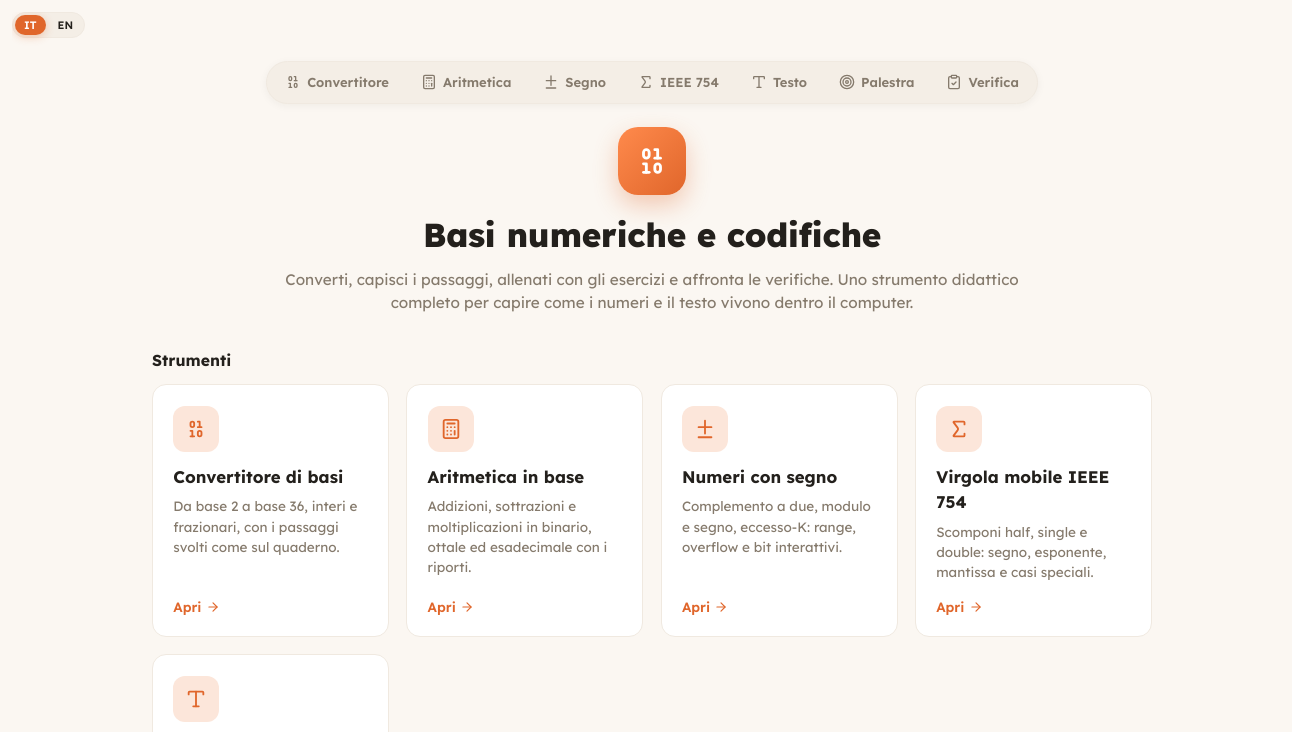
Test case: cambio lingua › passa a inglese e ritorna in italiano
The image size is (1292, 732).
Click the button "EN": x=65, y=25 [48,15,82,35]
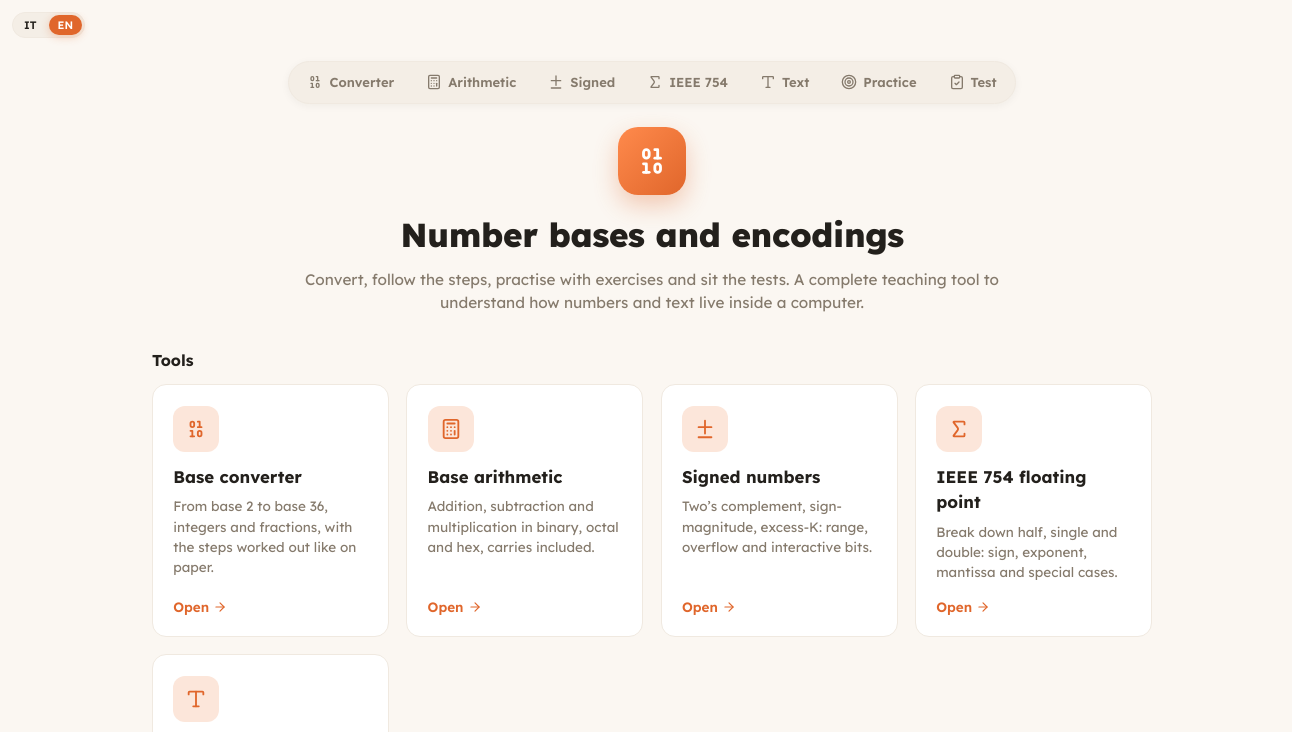
Check: the heading "Number bases and encodings" is shown, box [400,214,904,254]
Click the button "IT": x=30, y=25 [15,15,46,35]
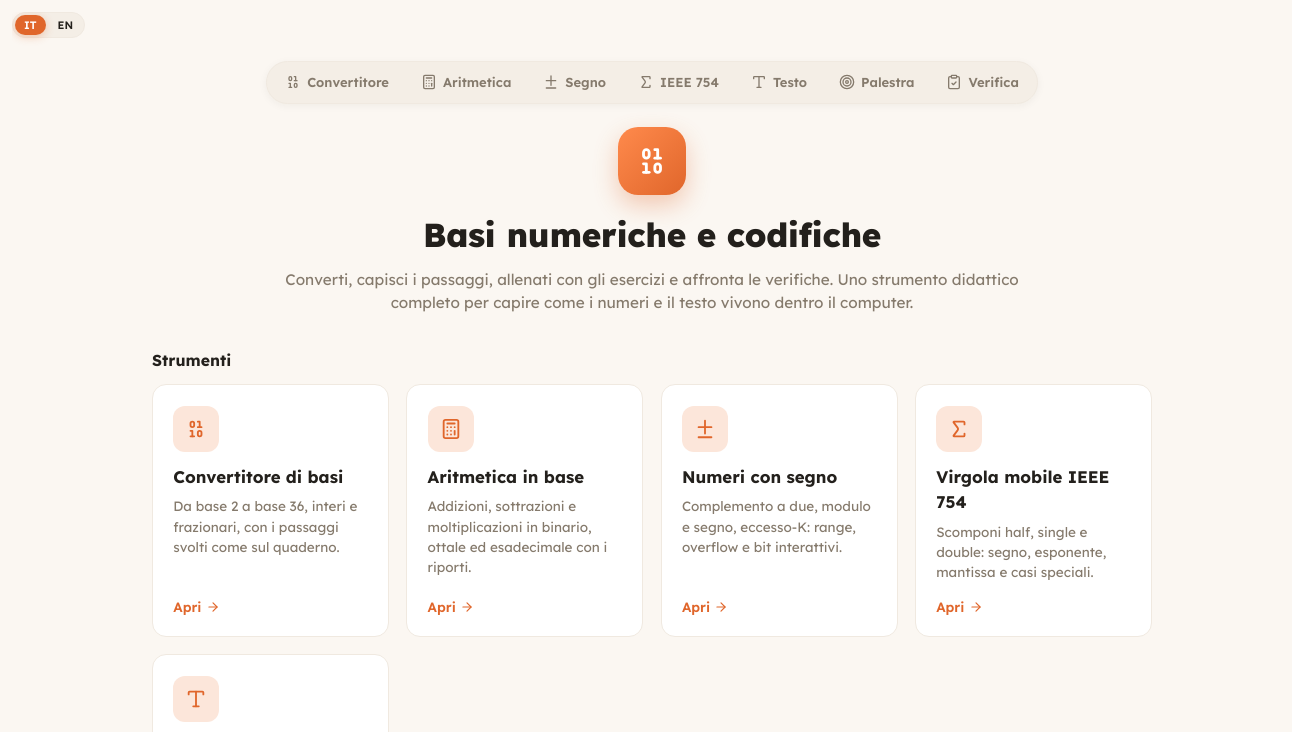
Check: the heading "Basi numeriche e codifiche" is shown, box [423,214,881,254]
